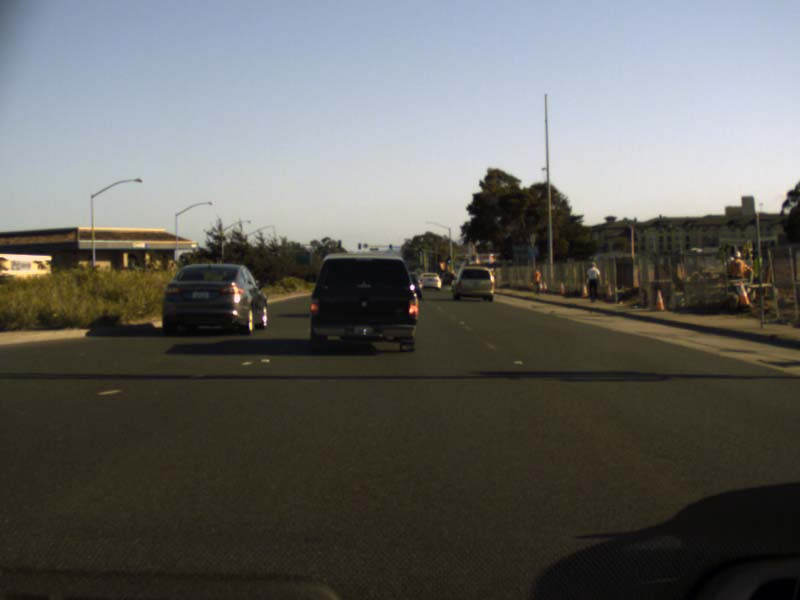Green: (418, 246, 422, 255), (446, 260, 451, 263)
